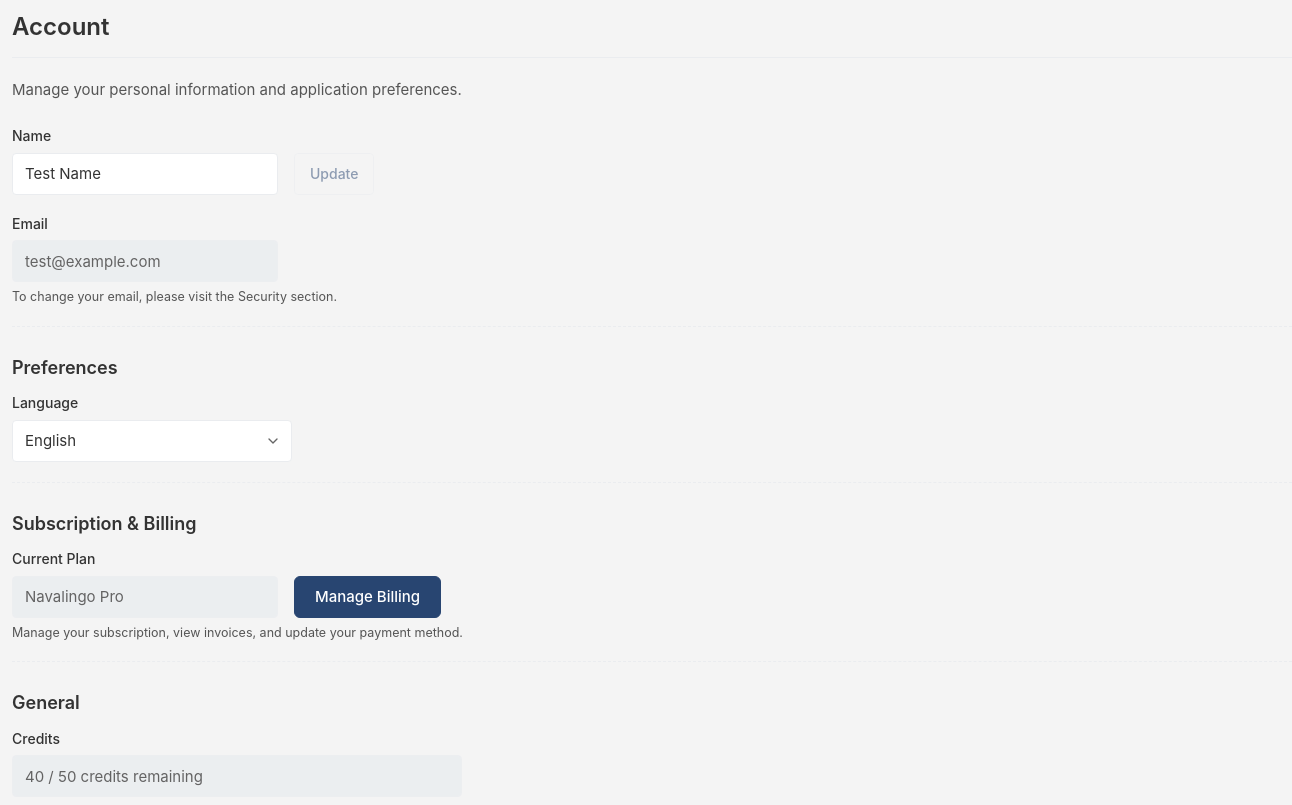
Test case: <AccountSection /> › handles billing portal redirection error
This screenshot has width=1292, height=805.
Step 1. Click the button "Manage Billing" → (368, 596), box [294,576,441,618]
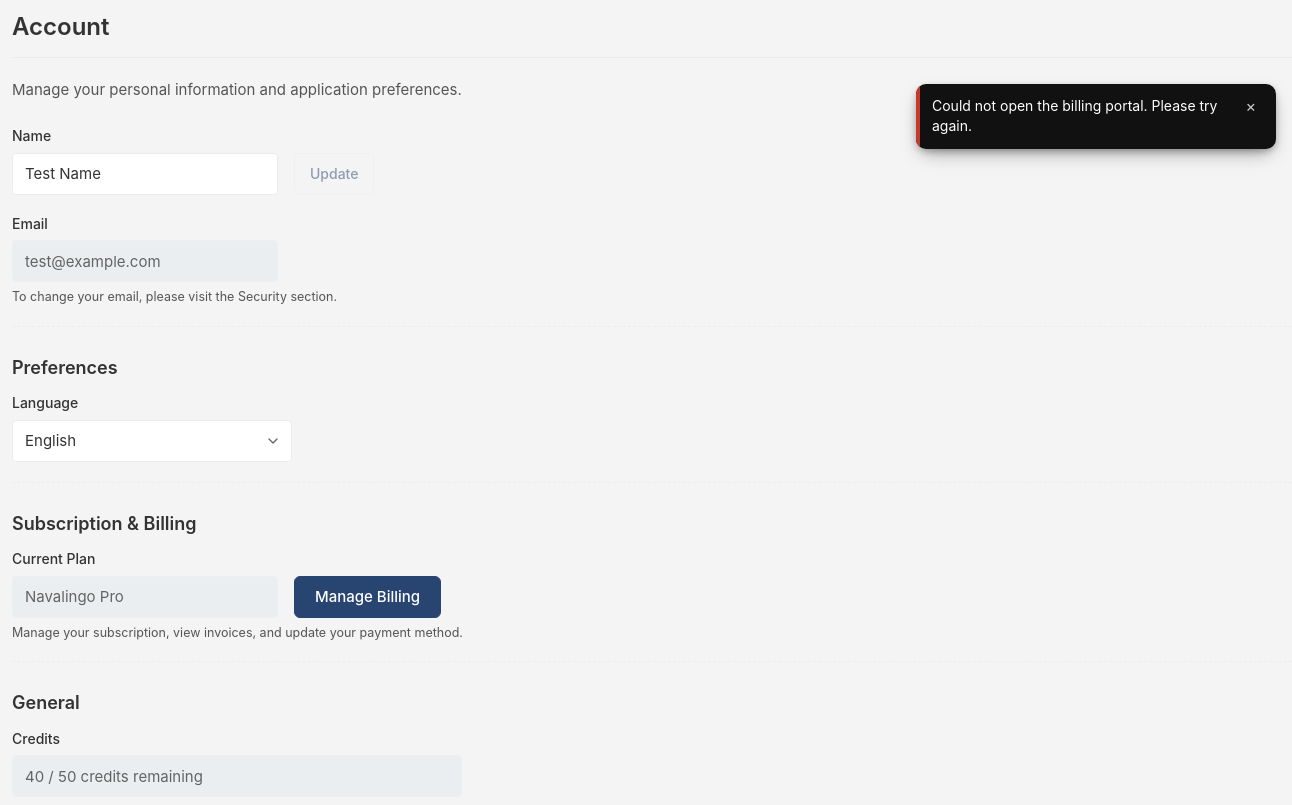
expect the text "Could not open the billing portal. Please try again." is shown: met, box [932,96,1229,137]
